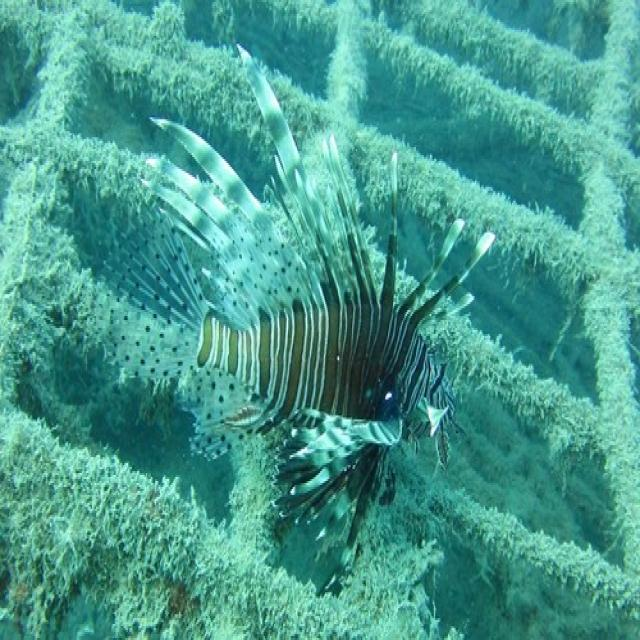Aslan Baligi: (100, 38, 497, 588)
